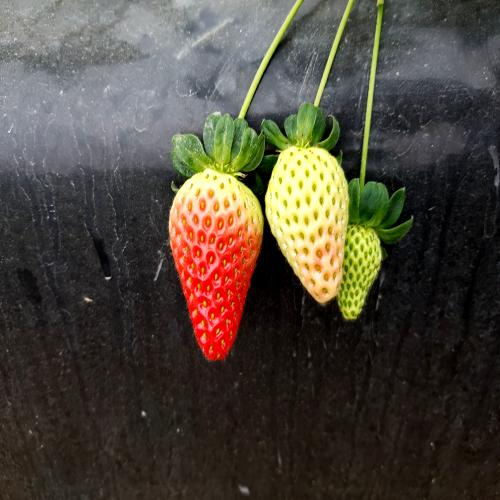partially-ripe: (158, 153, 269, 372), (262, 133, 356, 304)
